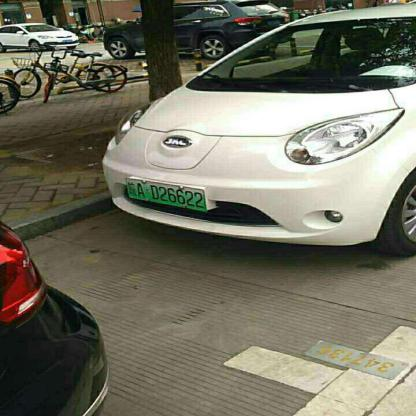lp: (125, 177, 206, 210)
